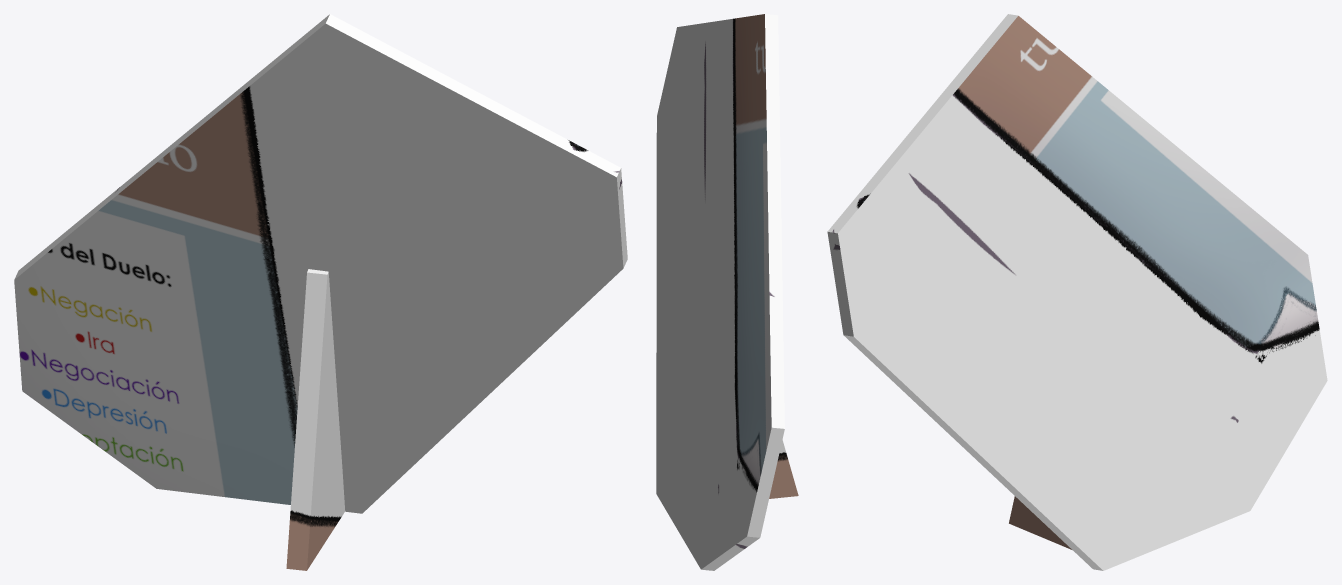
File: Panflet.fbx
3 renders of one model, left to right at view 1: azimuth 30°, elevation 25°; view 2: azimuth 150°, elevation 25°; view 3: azimuth 270°, elevation 25°, orthographic. The views are drawn at different scales.
Parts seen in each view (by area): view 1: Plane.012; view 2: Plane.012; view 3: Plane.012.
Boxes of the visible parts, <box> form: Plane.012: <box>14,14,627,570</box>; Plane.012: <box>656,14,798,570</box>; Plane.012: <box>827,14,1327,570</box>.
Bounding box in the file's own units: 37.63 × 51.57 × 44.86.
